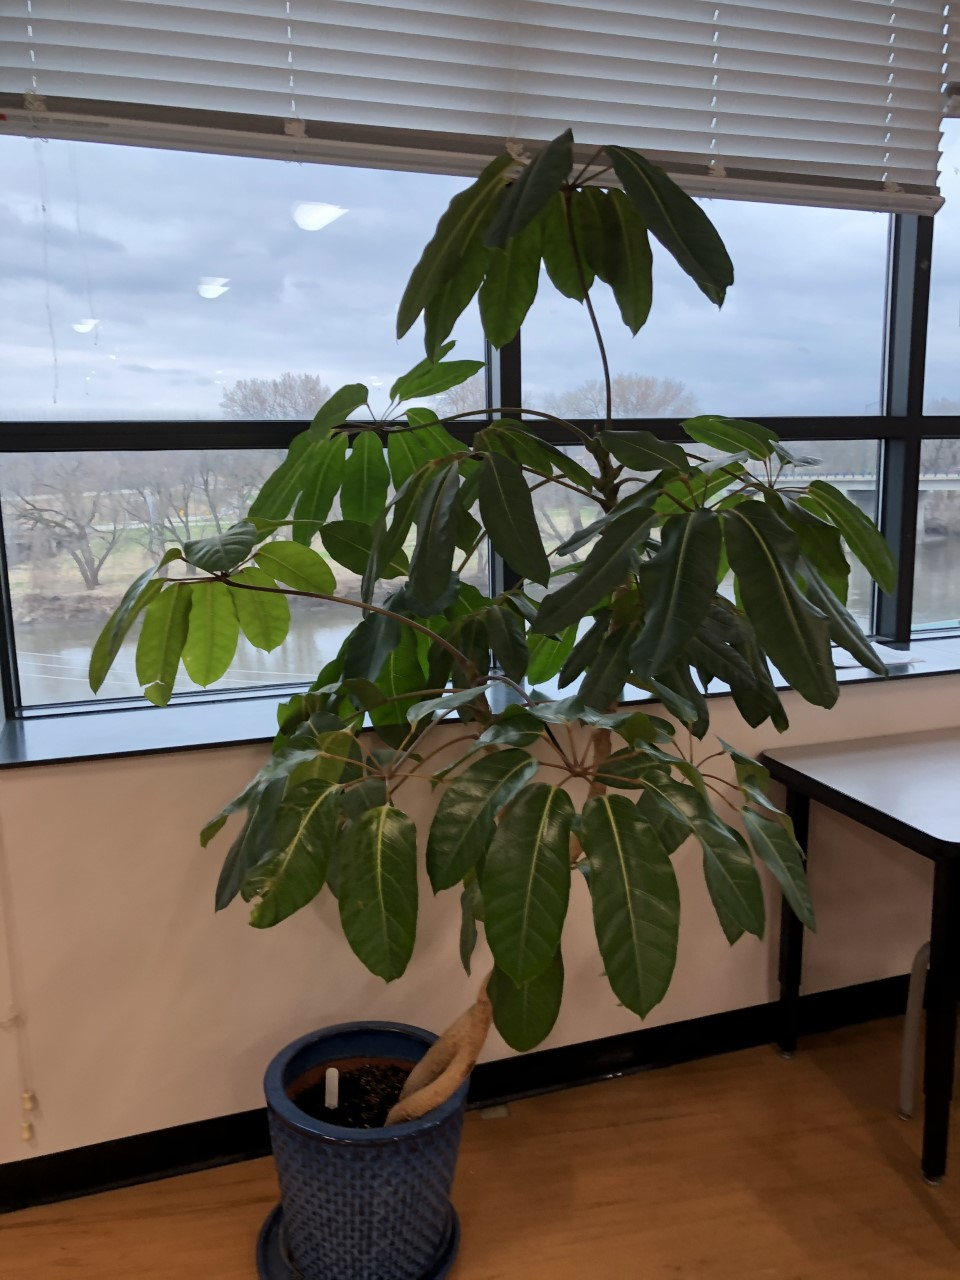pottedplant: (85, 125, 895, 1280)
